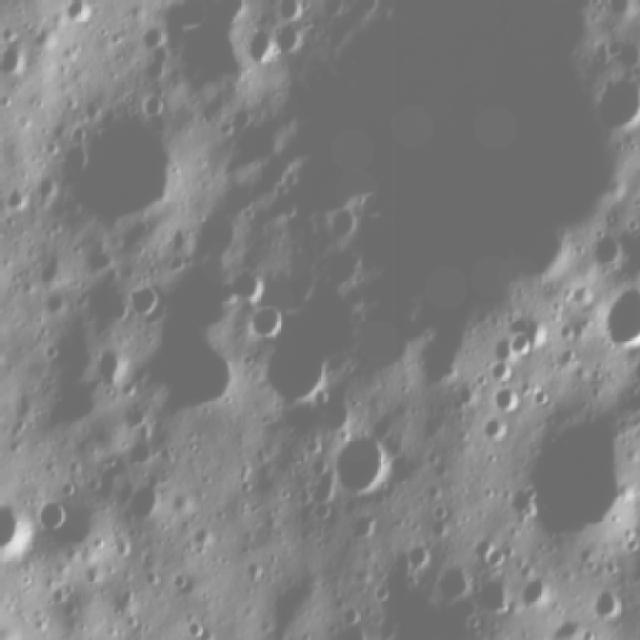crater: (223, 2, 634, 376), (53, 101, 182, 224), (524, 405, 634, 544), (327, 426, 398, 500), (592, 69, 640, 131), (597, 284, 640, 351), (497, 312, 548, 362), (122, 476, 166, 526), (436, 558, 473, 612), (473, 572, 515, 619), (519, 563, 561, 608), (32, 490, 74, 535), (228, 254, 263, 306), (253, 296, 290, 344), (397, 527, 434, 573), (42, 1, 92, 32), (324, 202, 361, 243), (483, 382, 525, 418), (347, 508, 385, 546), (586, 224, 622, 262), (588, 585, 624, 623), (93, 346, 127, 386), (5, 30, 32, 78), (130, 282, 167, 316), (476, 413, 506, 445), (81, 560, 104, 586), (170, 565, 192, 590), (187, 616, 210, 636), (142, 567, 163, 588)
